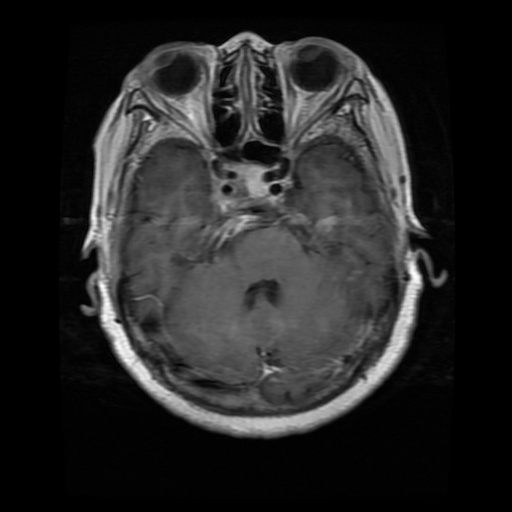pituitary: (237, 161, 266, 197)
